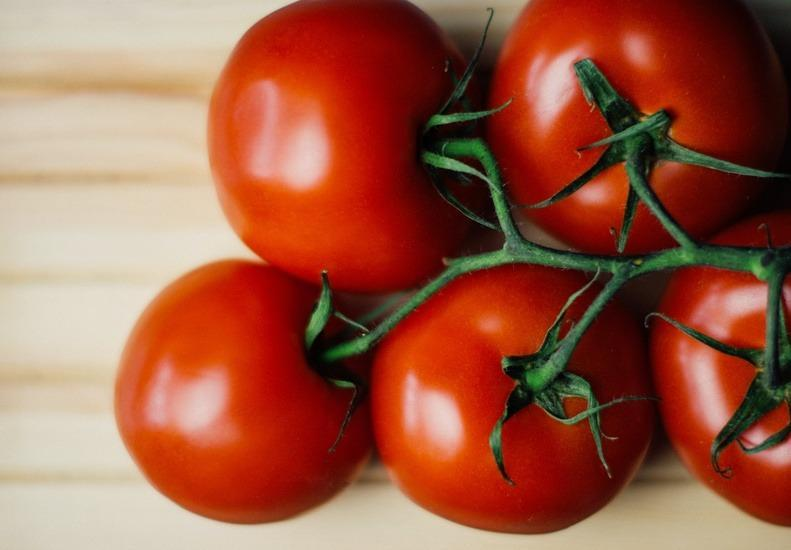healthy-tomato: (208, 5, 490, 295), (372, 264, 660, 538), (487, 1, 764, 277), (113, 261, 377, 526), (644, 268, 791, 531)
